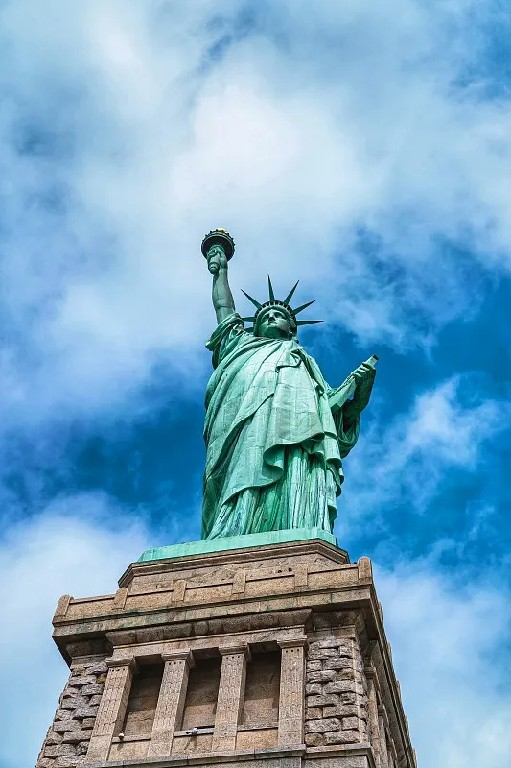SL: (33, 228, 417, 768)
